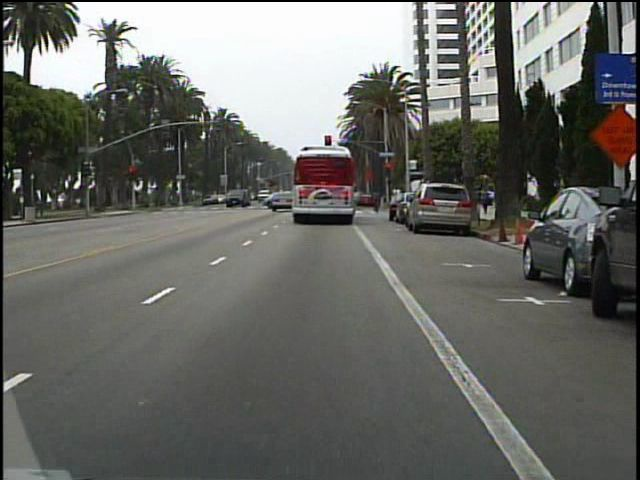person: (477, 184, 491, 217)
